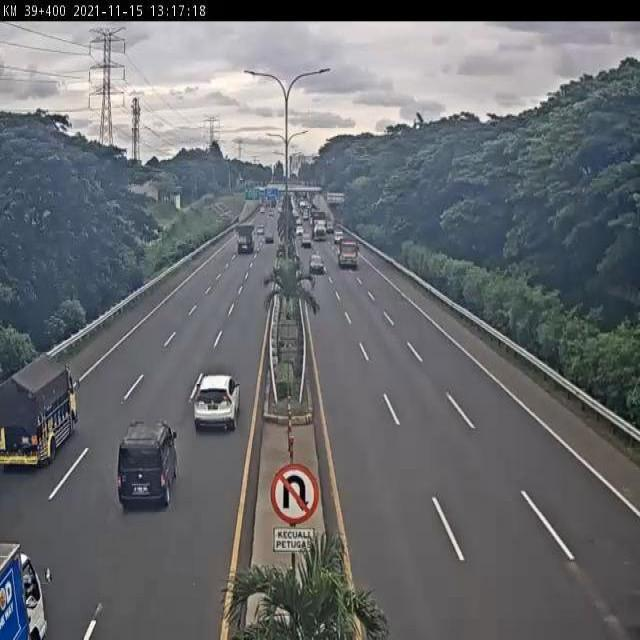car: (115, 416, 180, 511), (190, 371, 243, 435), (308, 252, 325, 279)
truck: (0, 351, 79, 472), (333, 235, 360, 268)
